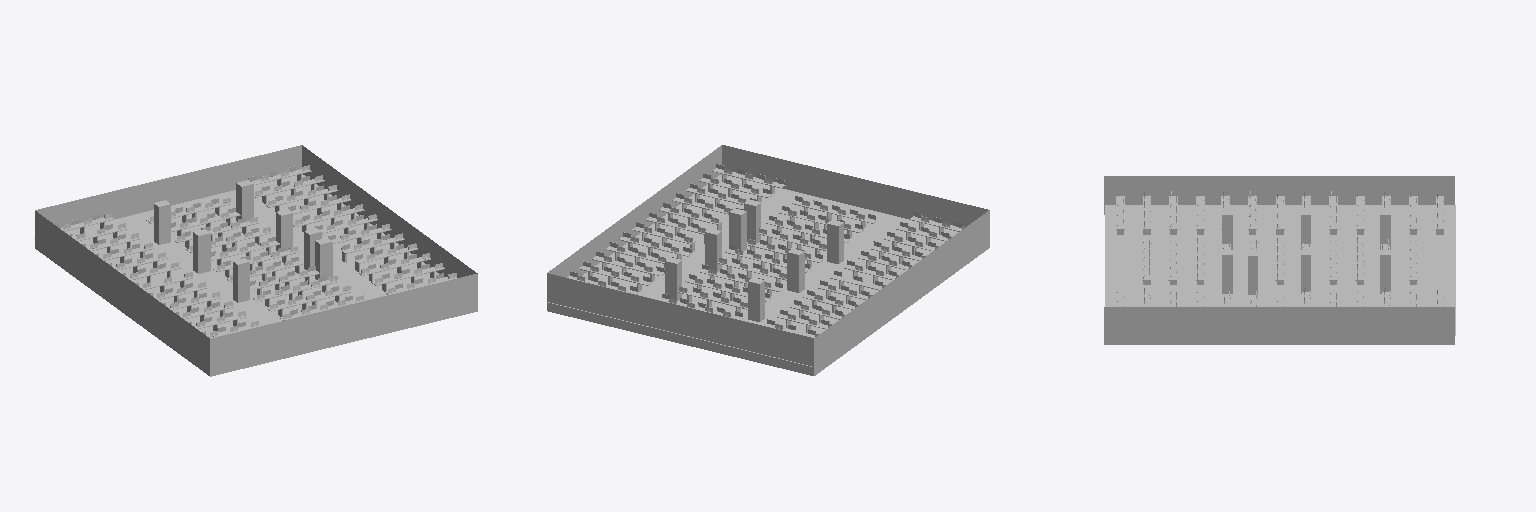
File: cluster.obj
3 renders of one model, left to right at view 1: azimuth 30°, elevation 25°; view 2: azimuth 150°, elevation 25°; view 3: azimuth 270°, elevation 25°, orthographic.
Visible parts, largest first — view 1: Plane, Plane.005_Plane.006, Plane.004_Plane.005, Plane.003_Plane.004, Plane.002_Plane.003, Cube.296_Cube.015, Cube.297_Cube.016, Cube.295_Cube.014, Cube.145_Cube.1169, Cube.294_Cube.013, Cube.293_Cube.012; view 2: Plane, Plane.003_Plane.004, Plane.004_Plane.005, Plane.005_Plane.006, Plane.002_Plane.003, Cube.296_Cube.015, Cube.295_Cube.014, Cube.297_Cube.016, Cube.298_Cube.017, Cube.294_Cube.013, Cube.293_Cube.012, Cube.145_Cube.1169; view 3: Plane, Plane.002_Plane.003, Plane.004_Plane.005.
Part boxes in pixels (bbox=[...]): Plane: bbox=[34, 174, 438, 334]; Plane.005_Plane.006: bbox=[210, 274, 477, 376]; Plane.004_Plane.005: bbox=[35, 211, 209, 375]; Plane.003_Plane.004: bbox=[35, 145, 301, 227]; Plane.002_Plane.003: bbox=[302, 145, 477, 277]; Cube.296_Cube.015: bbox=[193, 229, 210, 273]; Cube.297_Cube.016: bbox=[233, 258, 249, 302]; Cube.295_Cube.014: bbox=[154, 200, 170, 244]; Cube.145_Cube.1169: bbox=[315, 238, 332, 279]; Cube.294_Cube.013: bbox=[236, 180, 253, 221]; Cube.293_Cube.012: bbox=[276, 209, 292, 250]; Plane: bbox=[548, 174, 958, 366]; Plane.003_Plane.004: bbox=[547, 273, 813, 375]; Plane.004_Plane.005: bbox=[814, 210, 989, 375]; Plane.005_Plane.006: bbox=[722, 145, 988, 226]; Plane.002_Plane.003: bbox=[548, 145, 721, 277]; Cube.296_Cube.015: bbox=[787, 248, 804, 292]; Cube.295_Cube.014: bbox=[748, 277, 764, 321]; Cube.297_Cube.016: bbox=[827, 220, 843, 263]; Cube.298_Cube.017: bbox=[729, 208, 746, 251]; Cube.294_Cube.013: bbox=[665, 257, 681, 300]; Cube.293_Cube.012: bbox=[705, 228, 721, 271]; Cube.145_Cube.1169: bbox=[744, 199, 760, 242]; Plane: bbox=[1105, 205, 1455, 335]; Plane.002_Plane.003: bbox=[1104, 307, 1454, 344]; Plane.004_Plane.005: bbox=[1104, 176, 1454, 214].
Size of the model in its own units: 44 by 7.5 by 50.15.